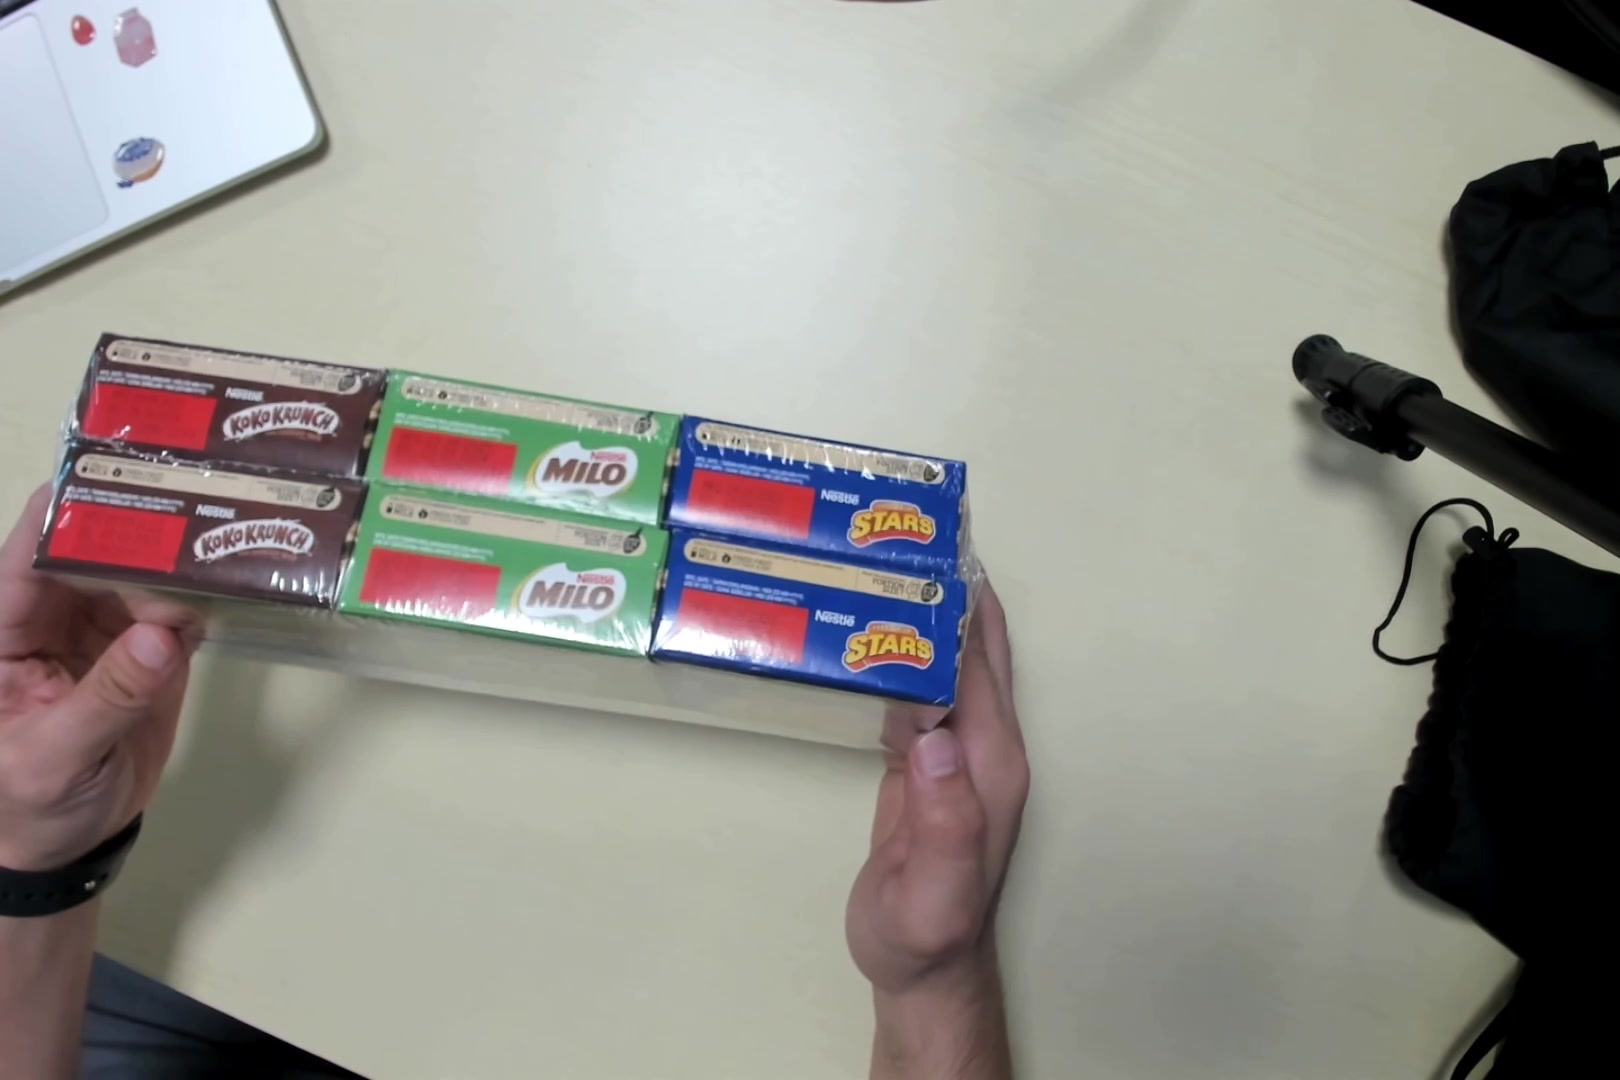BreakfastCereals_100-199g_Halal_NonHealthy: (48, 328, 965, 734)
